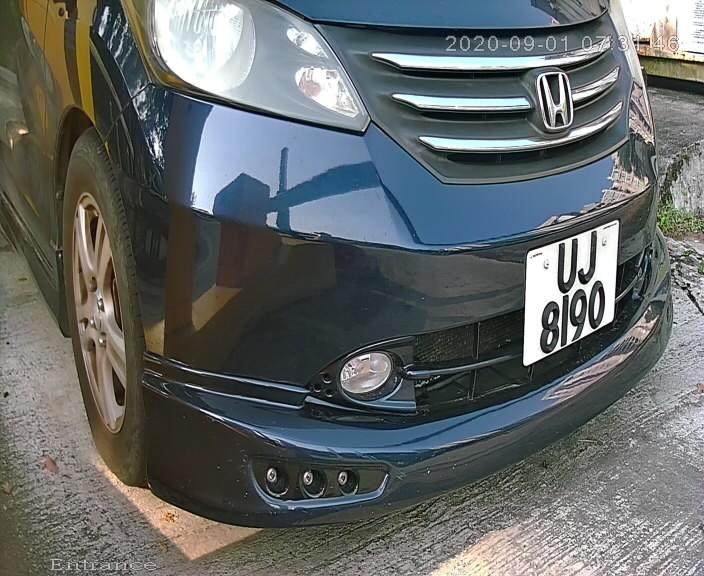License Plate: (516, 214, 623, 371)
